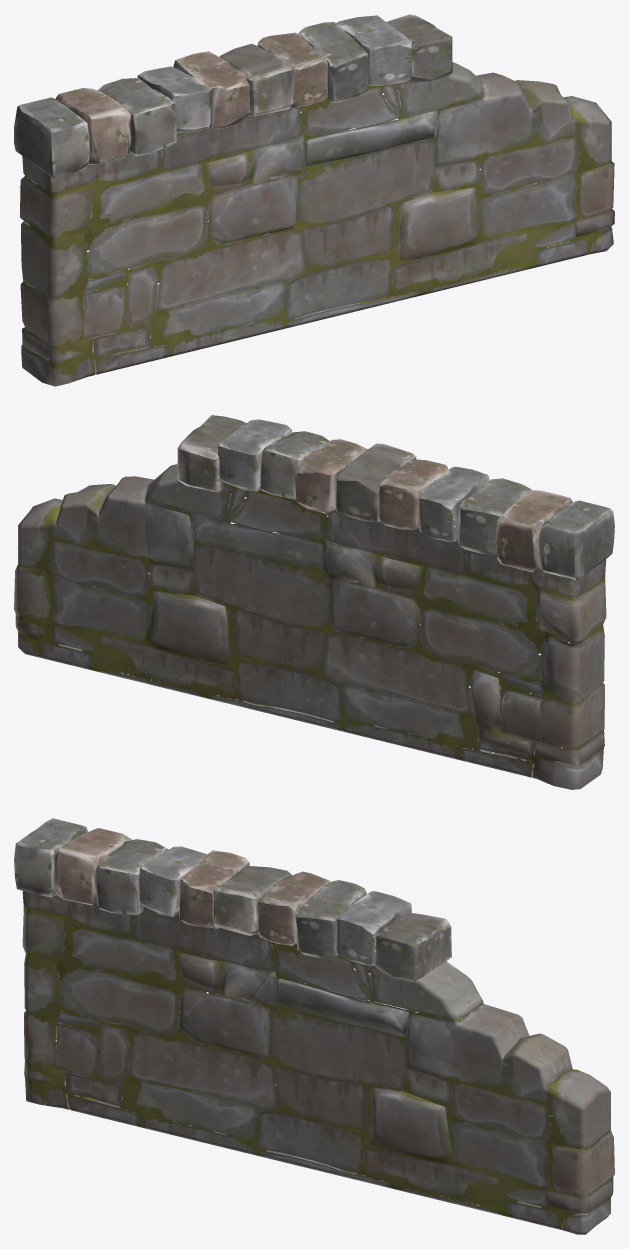
3 renders of one model, top to bottom at view 1: azimuth 30°, elevation 25°; view 2: azimuth 150°, elevation 25°; view 3: azimuth 330°, elevation 25°, orthographic.
Parts seen in each view (by area): view 1: SM_River_Bridge_Wall_01_v1_LOD0; view 2: SM_River_Bridge_Wall_01_v1_LOD0; view 3: SM_River_Bridge_Wall_01_v1_LOD0.
Part boxes in pixels (<box>): SM_River_Bridge_Wall_01_v1_LOD0: <box>14,14,614,386</box>; SM_River_Bridge_Wall_01_v1_LOD0: <box>14,415,614,789</box>; SM_River_Bridge_Wall_01_v1_LOD0: <box>14,818,614,1234</box>.
Bounding box in the file's own units: 4.04 × 1.82 × 0.514.
2 materials, 2 textured.
